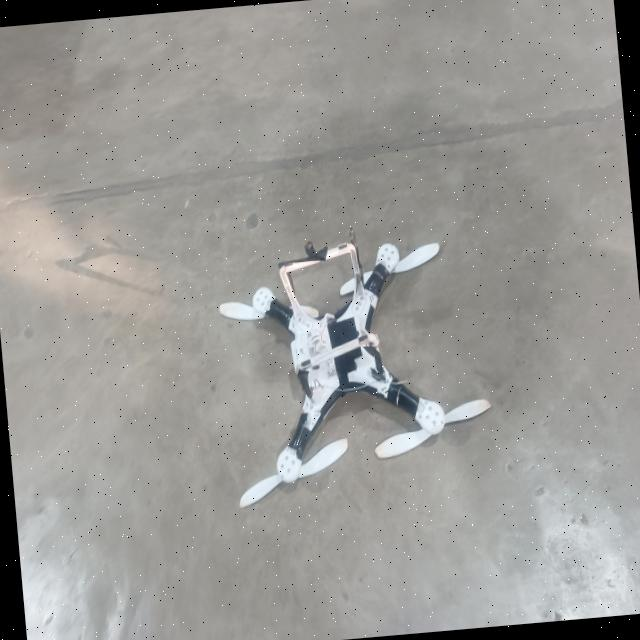drone: (204, 205, 519, 532)
